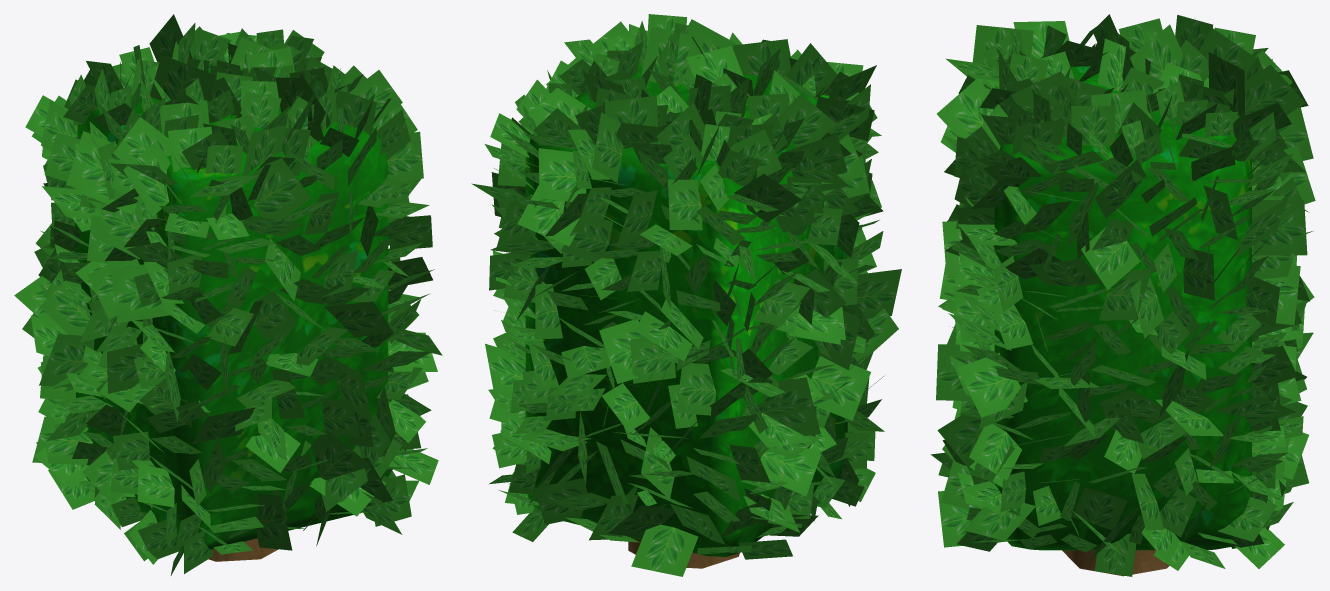
Rendered from sb_obj_outdoor012_Hedge01a.fbx.
The picture shows the model from 3 angles, left to right: view 1: azimuth 30°, elevation 25°; view 2: azimuth 150°, elevation 25°; view 3: azimuth 270°, elevation 25°; orthographic projection. The views are drawn at different scales.
Visible parts, largest first — view 1: leaf_plus_a, sb_obj_outdoor012_Hedge01a; view 2: leaf_plus_a, sb_obj_outdoor012_Hedge01a; view 3: leaf_plus_a, sb_obj_outdoor012_Hedge01a.
Part boxes in pixels (<box>): leaf_plus_a: <box>14,14,442,575</box>; sb_obj_outdoor012_Hedge01a: <box>74,69,388,561</box>; leaf_plus_a: <box>471,14,901,576</box>; sb_obj_outdoor012_Hedge01a: <box>525,61,847,568</box>; leaf_plus_a: <box>930,14,1315,576</box>; sb_obj_outdoor012_Hedge01a: <box>994,66,1251,576</box>.
Size of the model in its own units: 1.51 by 2.15 by 1.5.
